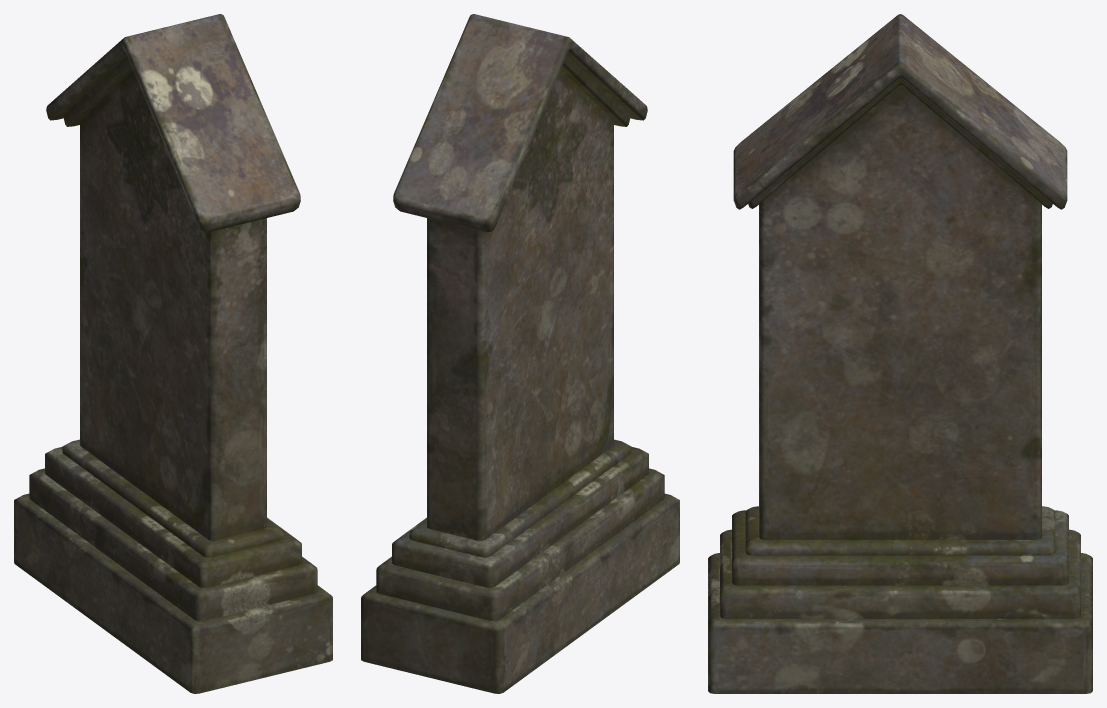
Rendered from SM_TombsD.fbx.
The picture shows the model from 3 angles, left to right: view 1: azimuth 30°, elevation 25°; view 2: azimuth 150°, elevation 25°; view 3: azimuth 270°, elevation 25°; orthographic projection. The views are drawn at different scales.
Visible parts, largest first — view 1: SM_TombsD_LOD0; view 2: SM_TombsD_LOD0; view 3: SM_TombsD_LOD0.
Part boxes in pixels (bbox=[...]): SM_TombsD_LOD0: bbox=[14, 14, 332, 693]; SM_TombsD_LOD0: bbox=[361, 14, 679, 693]; SM_TombsD_LOD0: bbox=[708, 14, 1092, 693].
Bounding box in the file's own units: 20.31 × 45.16 × 80.11.
1 material, 1 textured.
